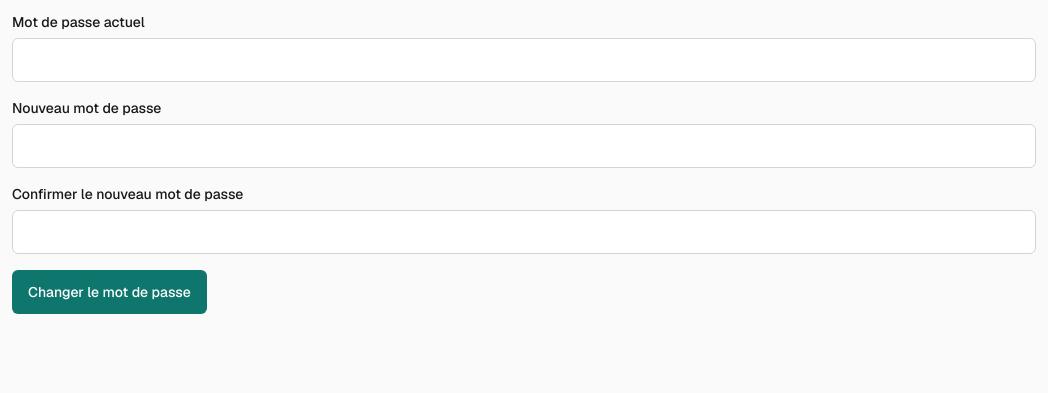
PasswordForm › change le mot de passe et vide le formulaire
Type "ancien-mot-de-passe" into the password field labelled "Mot de passe actuel" at (524, 60), box [12,38,1036,82]
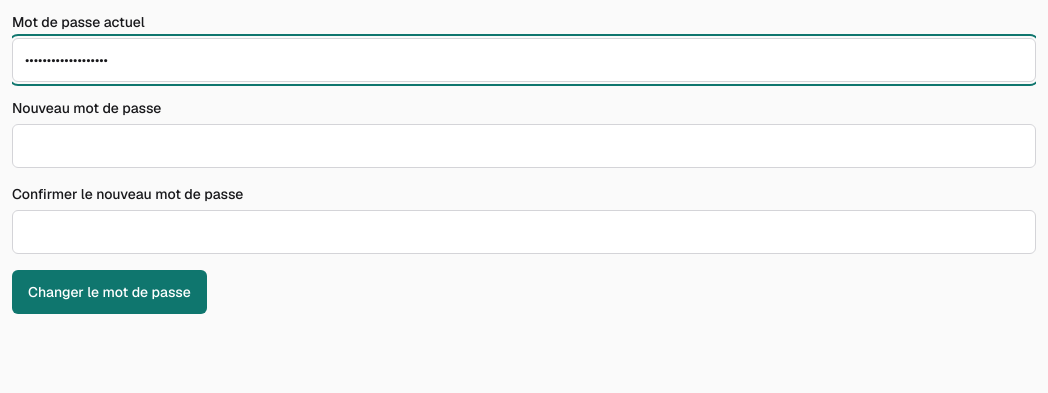
Type "nouveau-mot-de-passe" into the password field labelled "Nouveau mot de passe" at (524, 146), box [12,124,1036,168]
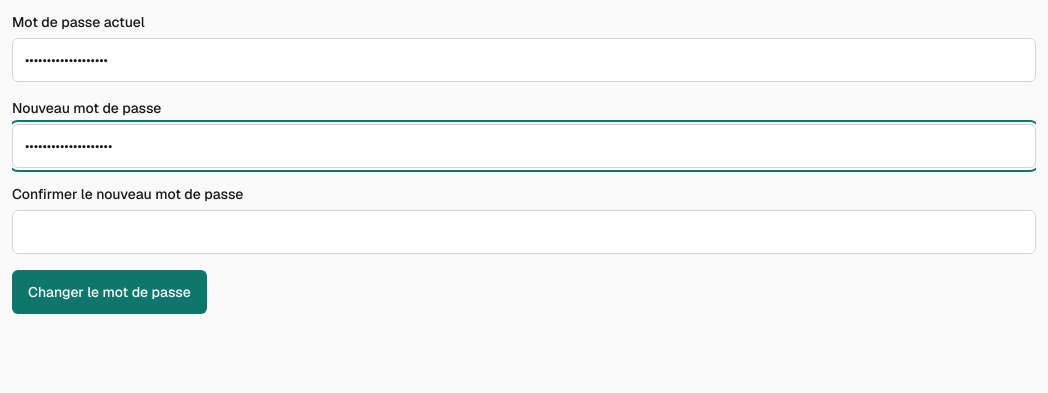
Type "nouveau-mot-de-passe" into the password field labelled "Confirmer le nouveau mot de passe" at (524, 232), box [12,210,1036,254]
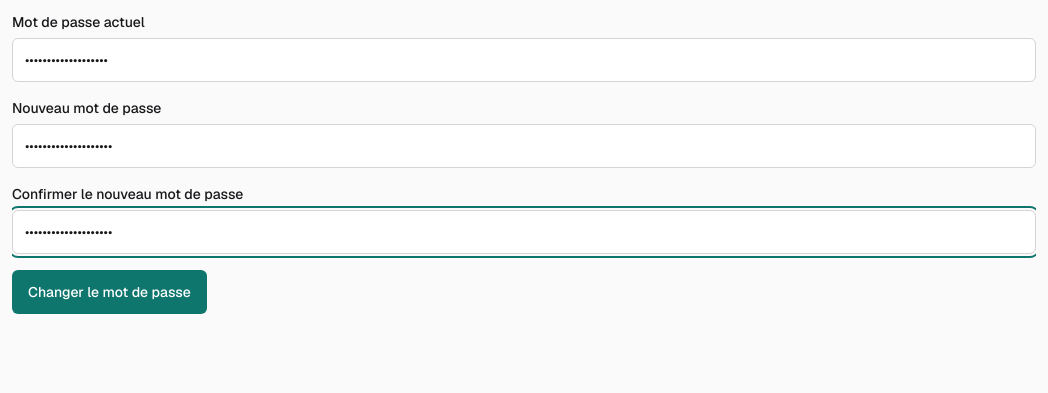
Click the button "Changer le mot de passe" at (109, 292), box [12,270,207,314]
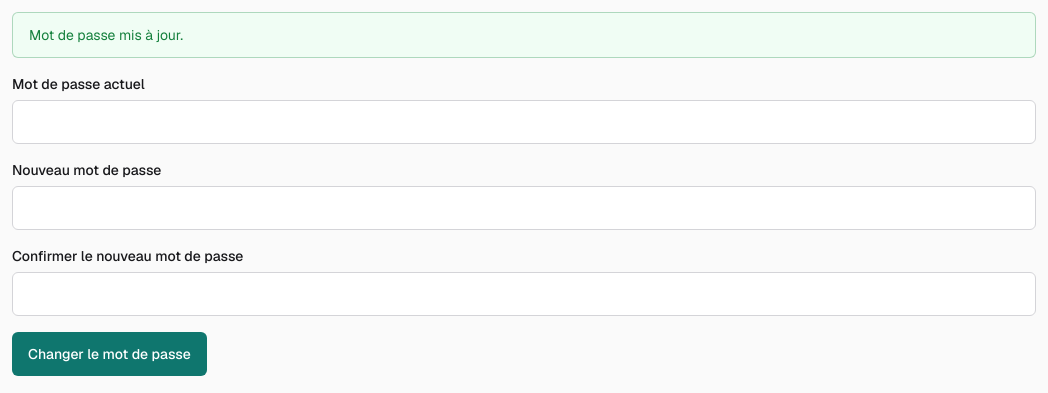
Expected: the text "Mot de passe mis à jour." is shown, [12,12,1036,58]
Expected: the password field labelled "Mot de passe actuel" is empty, [12,100,1036,144]
